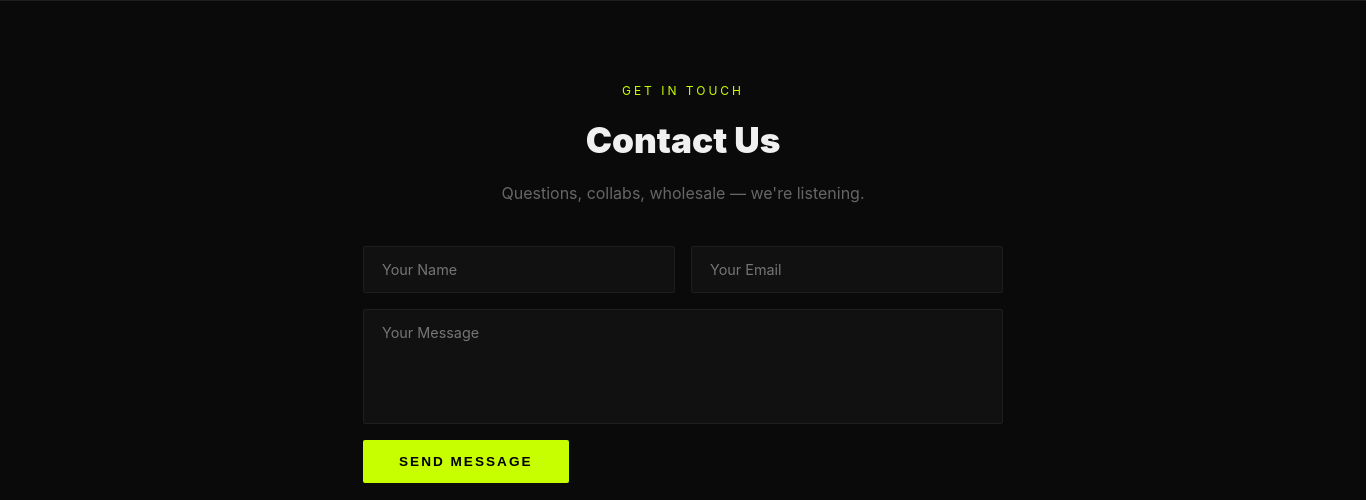
Test: Contact Form › exibe mensagem de sucesso ao enviar o formulário
Type "Gabriel" into the field with placeholder "Your Name" at (519, 270), box [363,246,675,293]
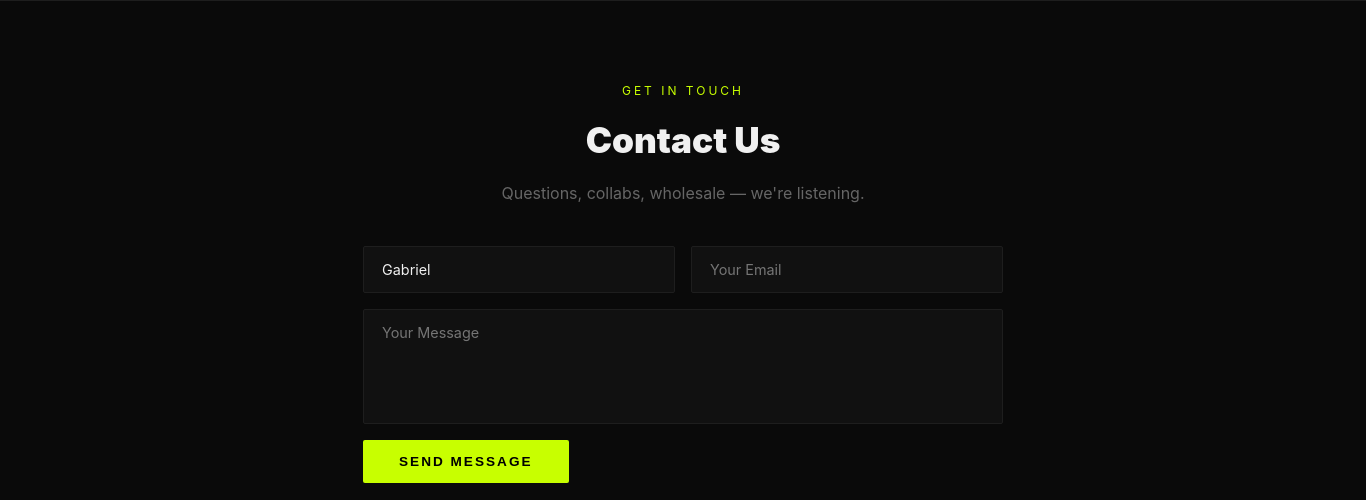
Type "gabriel@email.com" into the field with placeholder "Your Email" at (847, 270), box [691,246,1003,293]
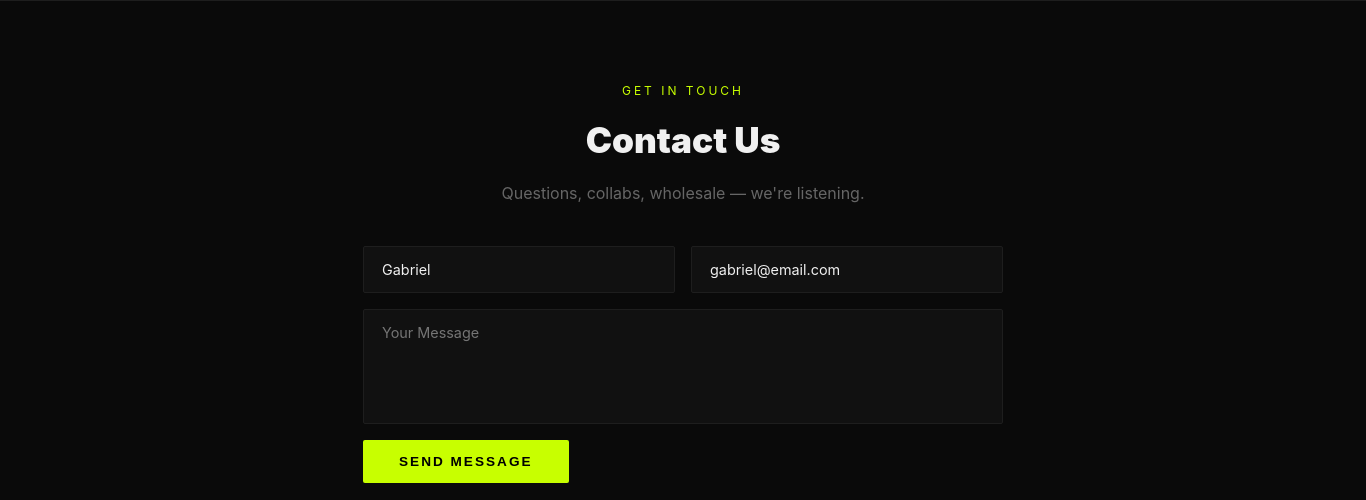
Type "Olá!" into the text box with placeholder "Your Message" at (683, 367), box [363,309,1003,424]
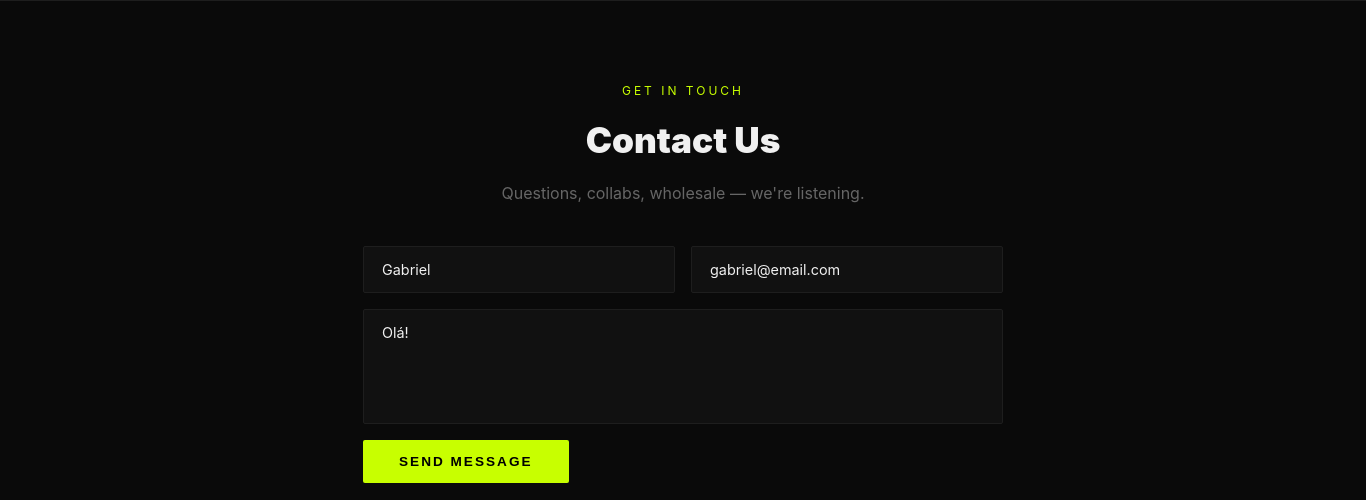
Click the button "Send Message" at (466, 462), box [363,440,568,483]
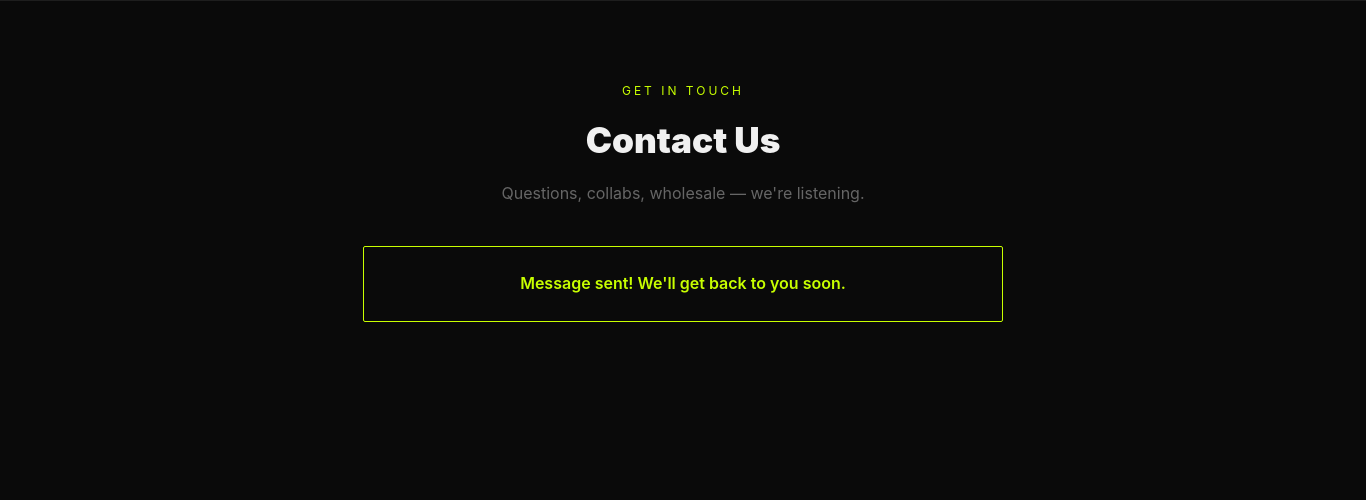
Expected: the text "Message sent! We'll get back to you soon." is shown, [520,273,846,293]
